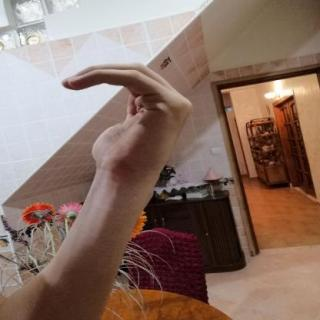HAA: (43, 52, 206, 188)
